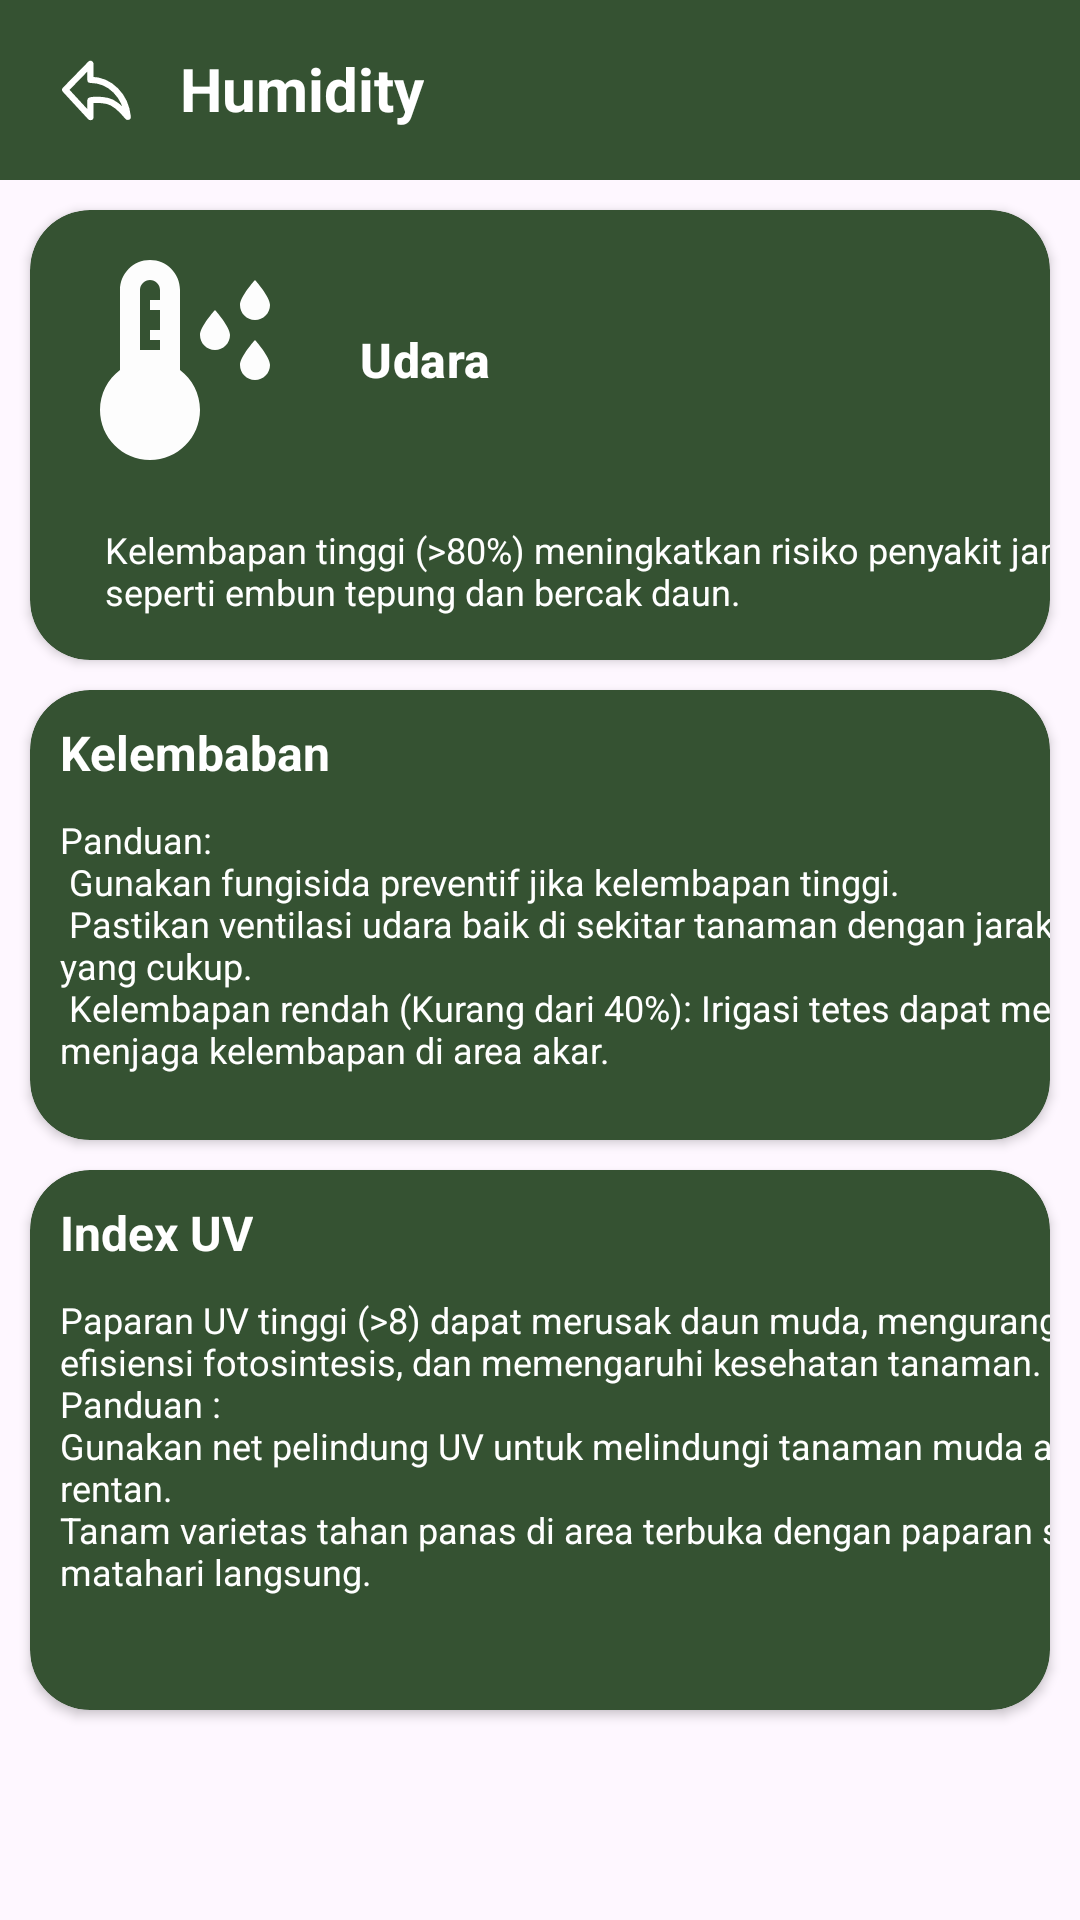

Icon click points for this 1080px×1920px phone screenshot, format (x=x, y=y):
back button description: (x=96, y=90)
water: (x=185, y=360)
